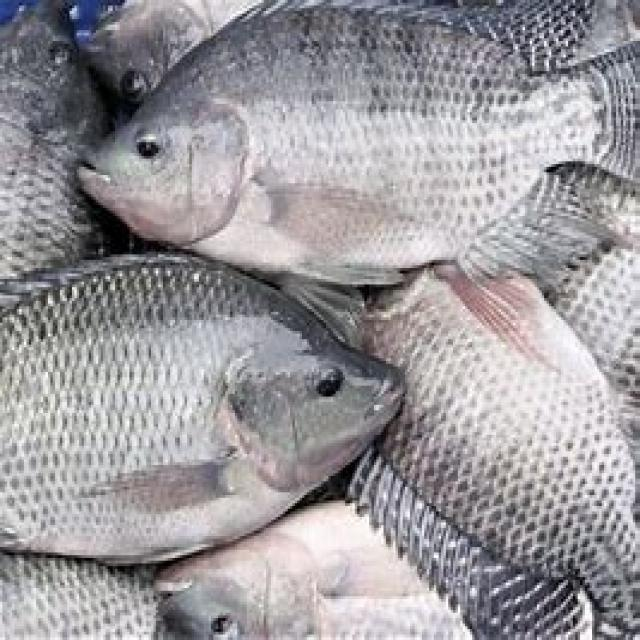Tilapia: (78, 0, 638, 286), (0, 253, 409, 561)
